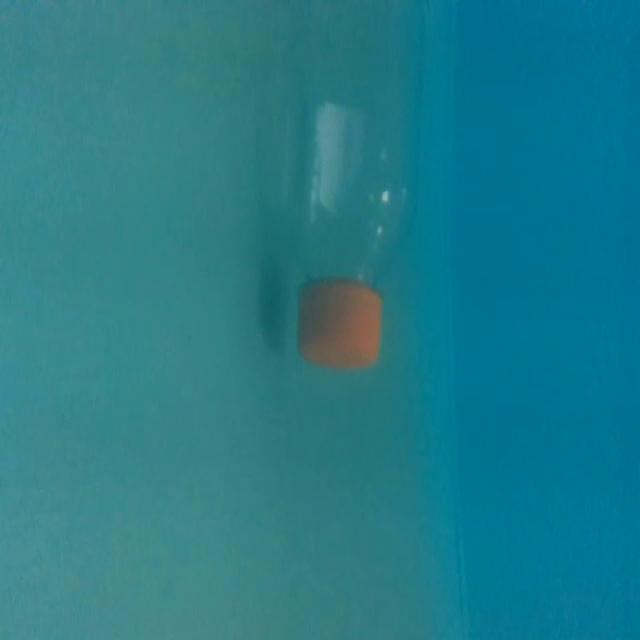plastic bottle: (281, 1, 429, 375)
